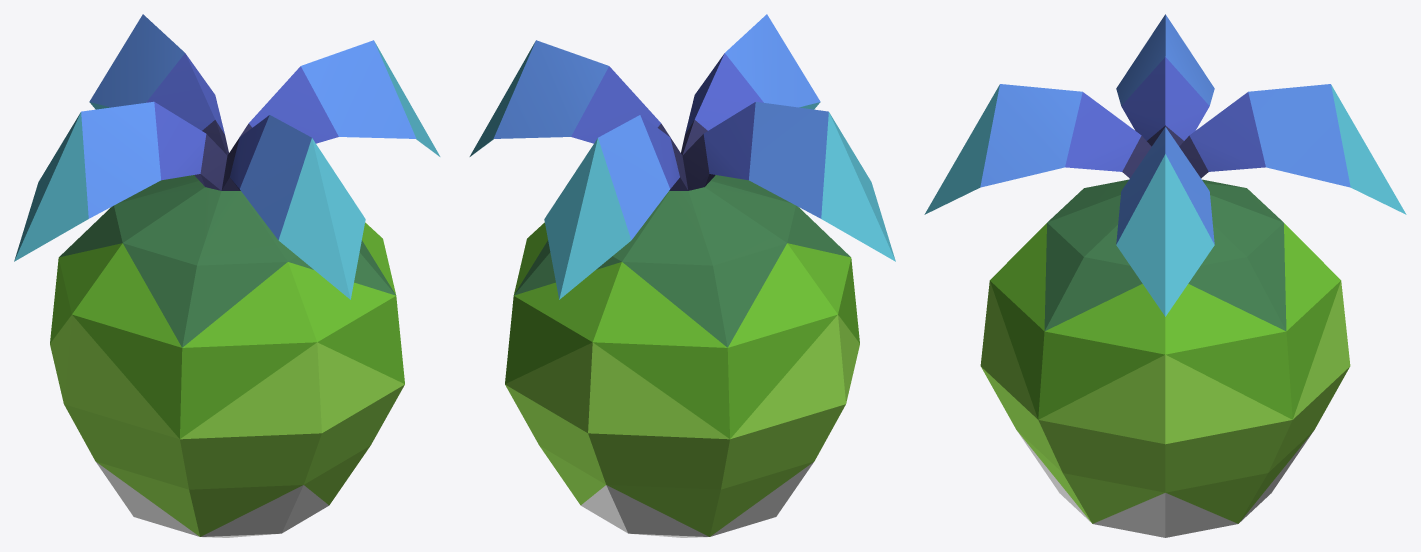
Rendered from model_greenradish.fbx.
The picture shows the model from 3 angles, left to right: view 1: azimuth 30°, elevation 25°; view 2: azimuth 150°, elevation 25°; view 3: azimuth 270°, elevation 25°; orthographic projection. The views are drawn at different scales.
Visible parts, largest first — view 1: mesh_greenradish; view 2: mesh_greenradish; view 3: mesh_greenradish.
Boxes of the visible parts, x1,y1,x2,y2 form: mesh_greenradish: (14, 14, 440, 537); mesh_greenradish: (469, 14, 895, 537); mesh_greenradish: (924, 14, 1406, 537).
Size of the model in its own units: 1.56 by 1.61 by 1.56.
Materials: 1 (1 with a texture image).
